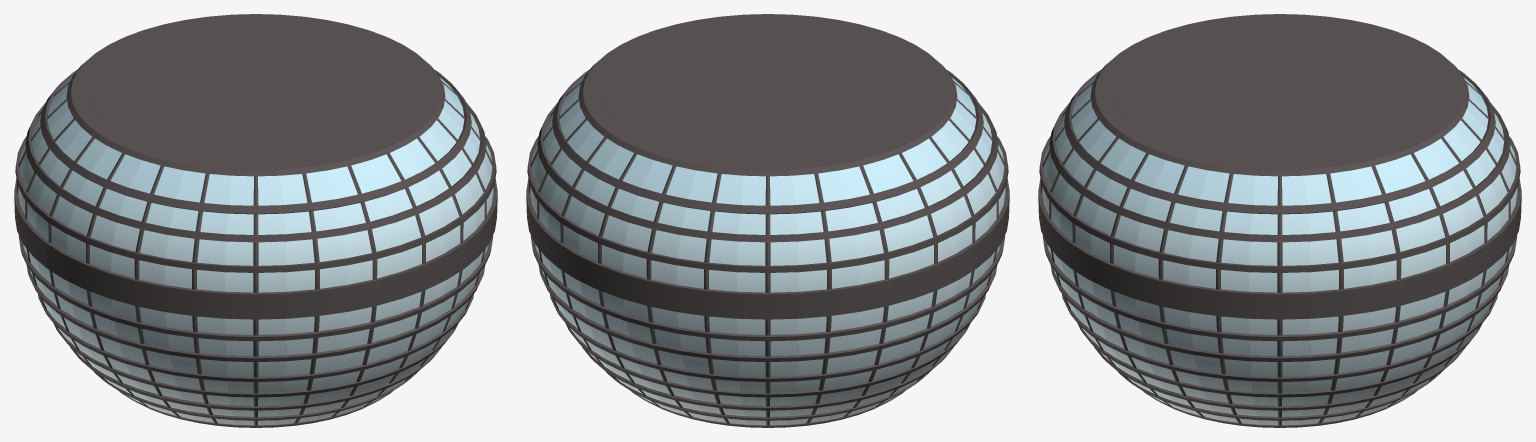
The model's file is stage.fbx.
The picture shows the model from 3 angles, left to right: view 1: azimuth 30°, elevation 25°; view 2: azimuth 150°, elevation 25°; view 3: azimuth 270°, elevation 25°; orthographic projection.
Visible parts, largest first — view 1: garasu, yoko, huta, tate; view 2: garasu, yoko, huta, tate; view 3: garasu, yoko, huta, tate.
Boxes of the visible parts, x1,y1,x2,y2 form: garasu: (18, 77, 493, 425); yoko: (14, 14, 497, 427); huta: (87, 21, 424, 163); tate: (17, 81, 494, 425); garasu: (530, 77, 1005, 425); yoko: (526, 14, 1009, 427); huta: (599, 21, 936, 163); tate: (529, 81, 1006, 425); garasu: (1042, 77, 1517, 425); yoko: (1038, 14, 1521, 427); huta: (1111, 21, 1448, 163); tate: (1041, 81, 1518, 425).
Bounding box in the file's own units: 7288 × 4541 × 7288.
